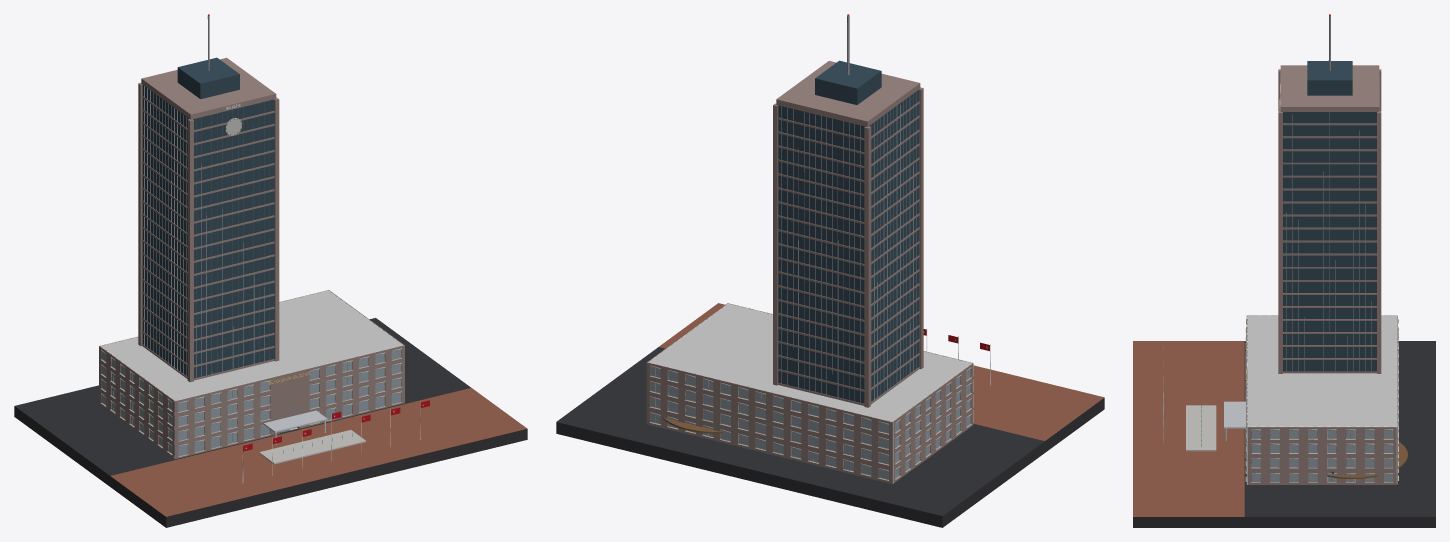
File: simge_buyuksehir_belediyesi.glb
The picture shows the model from 3 angles, left to right: view 1: azimuth 30°, elevation 25°; view 2: azimuth 150°, elevation 25°; view 3: azimuth 270°, elevation 25°; orthographic projection. The views are drawn at different scales.
Visible parts, largest first — view 1: Simge_Buyuksehir_Belediyesi.001; view 2: Simge_Buyuksehir_Belediyesi.001; view 3: Simge_Buyuksehir_Belediyesi.001.
Boxes of the visible parts, x1,y1,x2,y2 form: Simge_Buyuksehir_Belediyesi.001: (14,14,527,527); Simge_Buyuksehir_Belediyesi.001: (556,14,1104,527); Simge_Buyuksehir_Belediyesi.001: (1133,14,1435,527).
Bounding box in the file's own units: 110 × 118 × 80.
